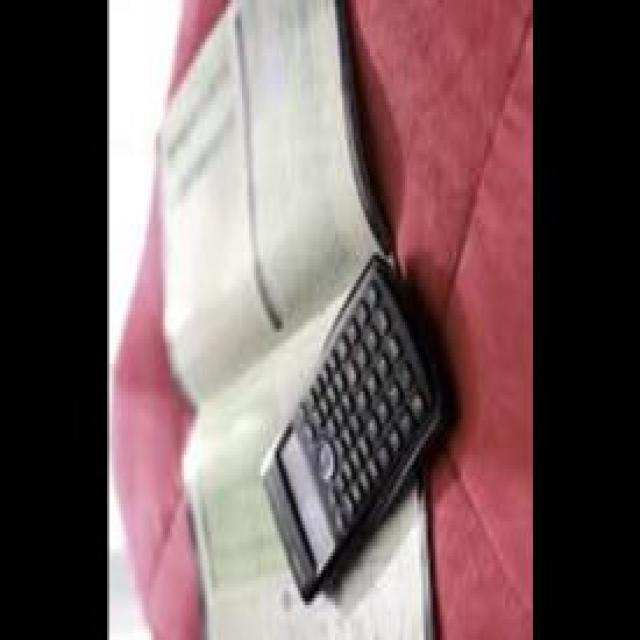Calculator: (254, 262, 433, 612)
